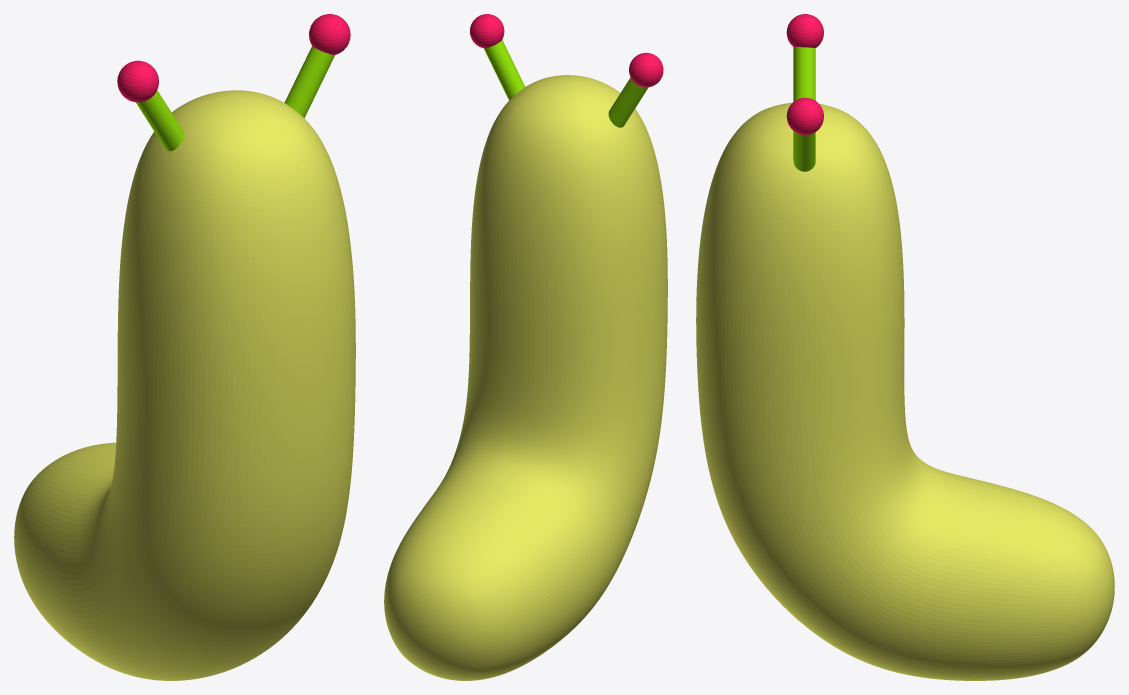
Rendered from worm.fbx.
3 renders of one model, left to right at view 1: azimuth 30°, elevation 25°; view 2: azimuth 150°, elevation 25°; view 3: azimuth 270°, elevation 25°, orthographic. The views are drawn at different scales.
Parts seen in each view (by area): view 1: worm, tentacle_L, tentacle_R, ball, ball.001; view 2: worm, tentacle_L, tentacle_R, ball, ball.001; view 3: worm, tentacle_R, ball.001, ball, tentacle_L.
Part boxes in pixels (x1,y1,x2,y2): worm: (14,90,355,680); tentacle_L: (284,46,334,117); tentacle_R: (136,90,184,151); ball: (117,60,158,102); ball.001: (309,14,350,54); worm: (384,75,667,680); tentacle_L: (484,40,524,100); tentacle_R: (608,77,648,127); ball: (629,52,663,87); ball.001: (470,14,504,48); worm: (696,102,1114,680); tentacle_R: (793,47,815,101); ball.001: (786,97,823,134); ball: (786,14,823,47); tentacle_L: (793,131,815,171).
Bounding box in the file's own units: 106 × 303 × 188.
